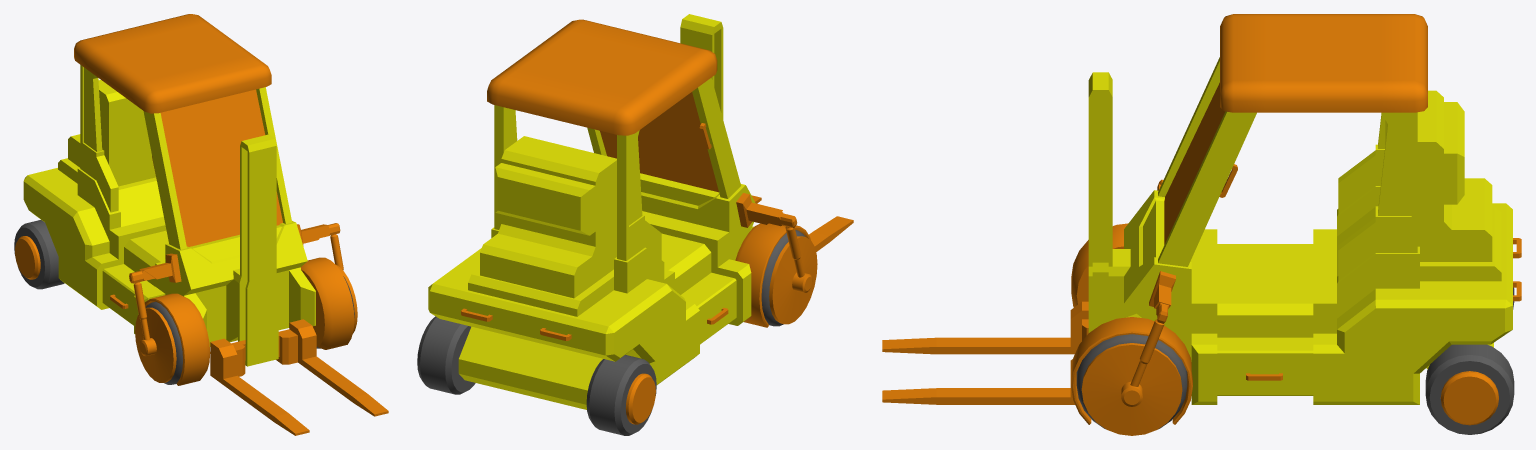
File: Player.fbx
The picture shows the model from 3 angles, left to right: view 1: azimuth 30°, elevation 25°; view 2: azimuth 150°, elevation 25°; view 3: azimuth 270°, elevation 25°; orthographic projection. The views are drawn at different scales.
Parts seen in each view (by area): view 1: Default Player Main, Default Player Secondary Parts, Default Player Lift, Defualt Player Wheel BR, Defualt Player Wheel FR; view 2: Default Player Main, Default Player Secondary Parts, Defualt Player Wheel BR, Defualt Player Wheel BL, Defualt Player Wheel FR, Default Player Lift; view 3: Default Player Main, Default Player Secondary Parts, Default Player Lift, Defualt Player Wheel BL, Defualt Player Wheel FL.
Part boxes in pixels (left/top/right/bottom): Default Player Main: left=23, top=65, right=315, bottom=366; Default Player Secondary Parts: left=15, top=14, right=357, bottom=385; Default Player Lift: left=210, top=319, right=388, bottom=435; Defualt Player Wheel BR: left=14, top=220, right=64, bottom=289; Defualt Player Wheel FR: left=145, top=301, right=182, bottom=384; Default Player Main: left=428, top=14, right=755, bottom=409; Default Player Secondary Parts: left=461, top=19, right=817, bottom=424; Defualt Player Wheel BR: left=586, top=355, right=656, bottom=435; Defualt Player Wheel BL: left=417, top=316, right=475, bottom=394; Defualt Player Wheel FR: left=761, top=230, right=805, bottom=326; Default Player Lift: left=751, top=195, right=853, bottom=251; Default Player Main: left=1088, top=57, right=1512, bottom=404; Default Player Secondary Parts: left=1071, top=14, right=1521, bottom=435; Default Player Lift: left=882, top=301, right=1088, bottom=404; Defualt Player Wheel BL: left=1425, top=344, right=1514, bottom=434; Defualt Player Wheel FL: left=1076, top=334, right=1187, bottom=429.
Bounding box in the file's own units: 4.62 × 2.27 × 2.65.
